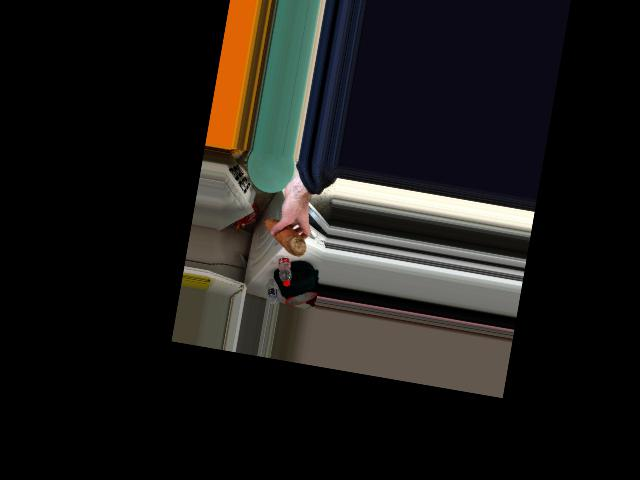sweet_potato: (259, 218, 309, 258)
